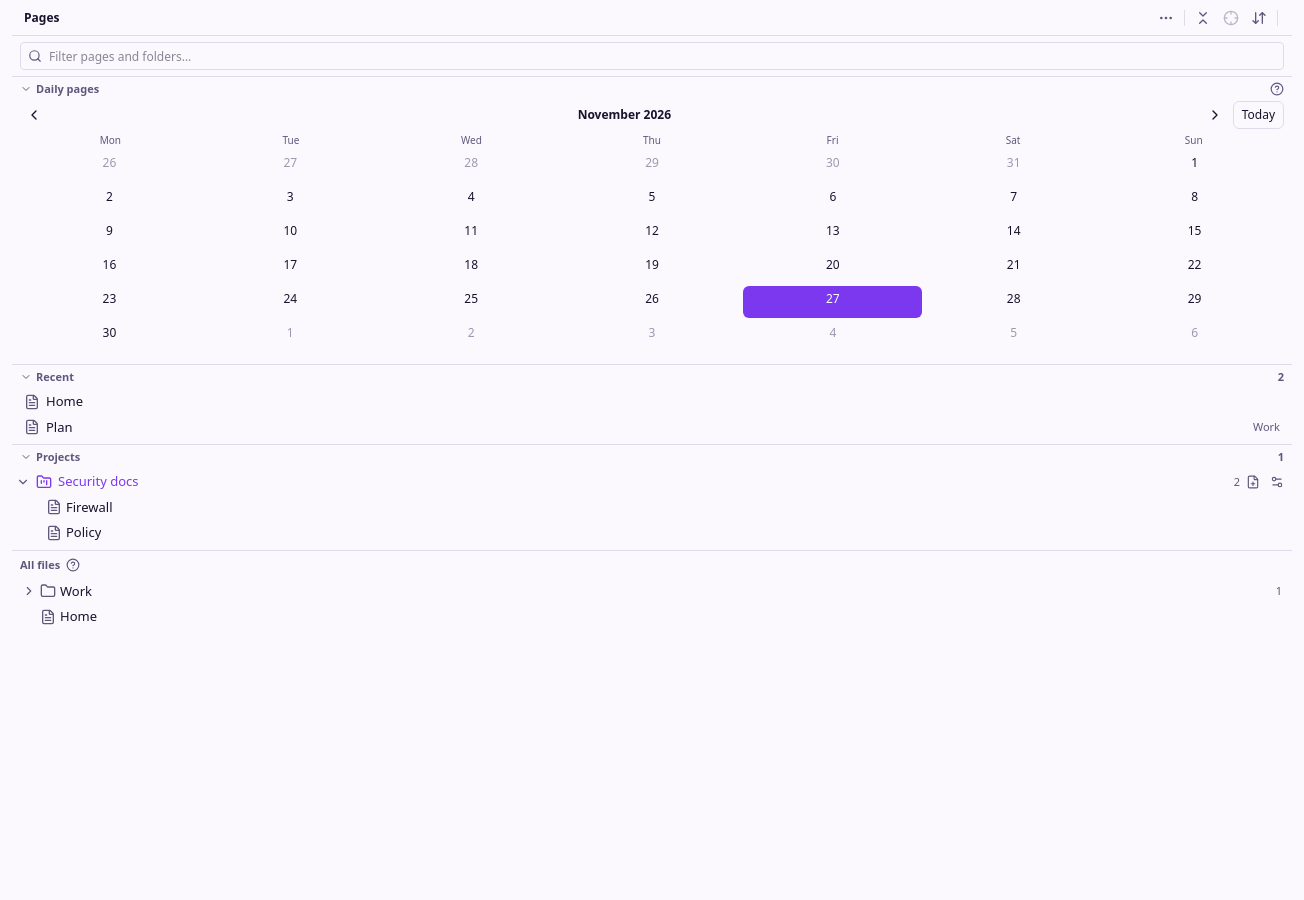
Test: FilesPanel › right-clicking a project offers the same choices as a folder in All files
Right-click the element with test id "project-Work/Security": (652, 482) [12,469,1292,494]
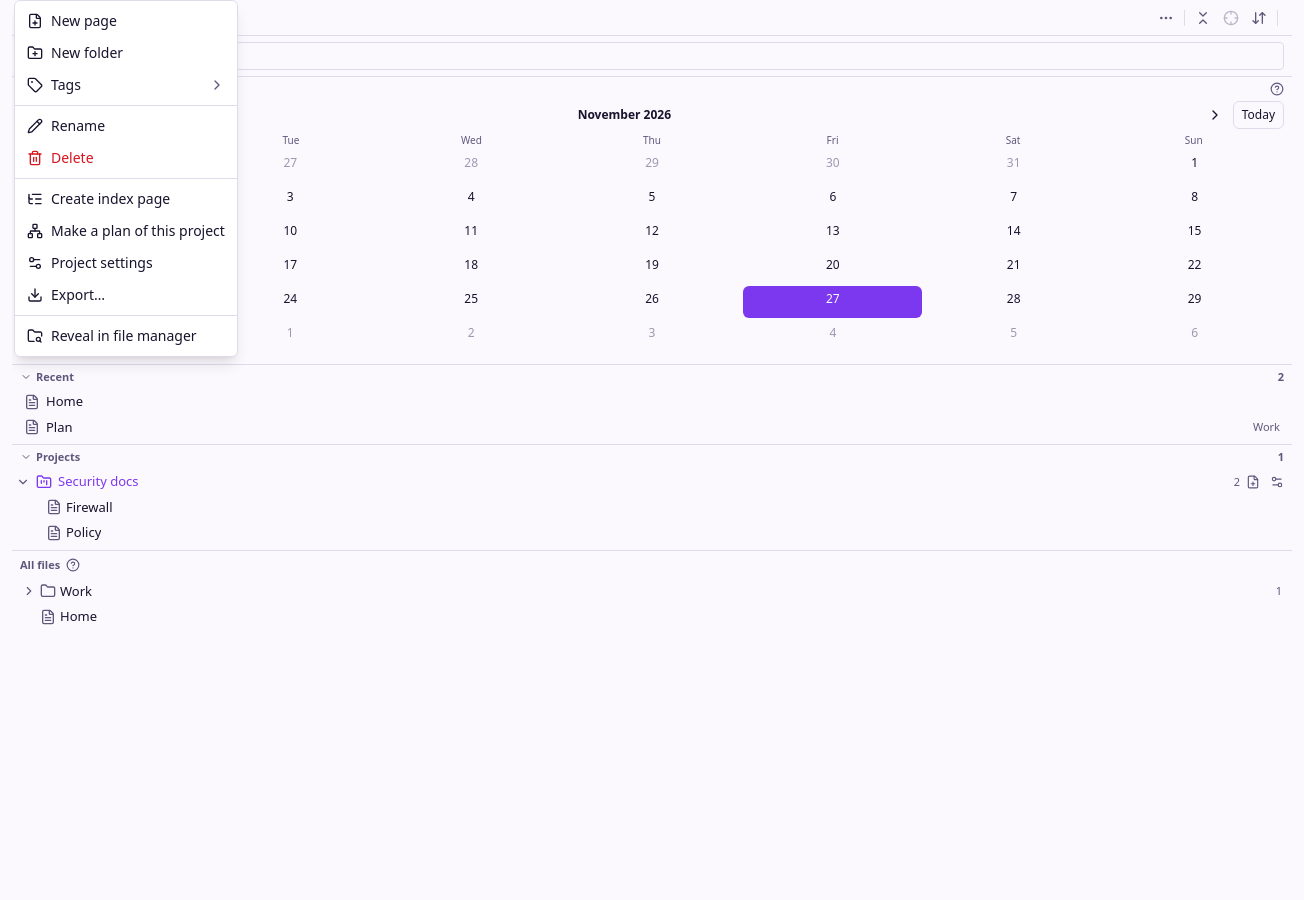
Expected: the menu item "New page" is shown, [27,11,117,30]
Expected: the menu item "New folder" is shown, [27,43,123,62]
Expected: the menu item "Rename" is shown, [27,116,105,135]
